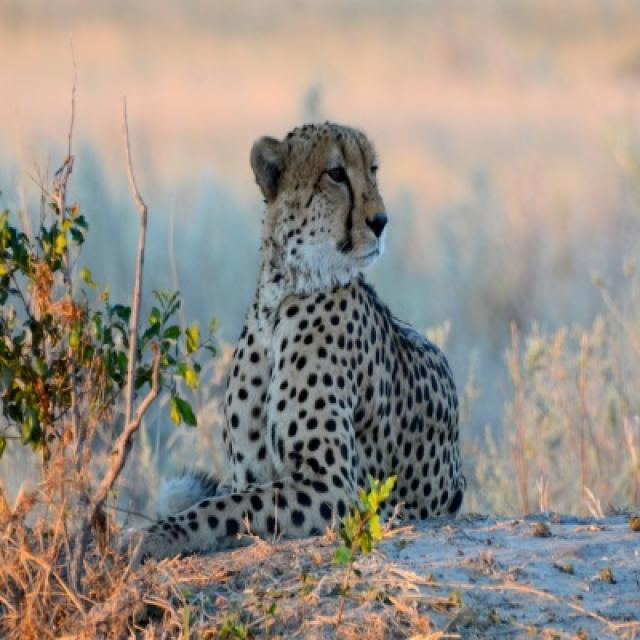Cheetah: (134, 122, 467, 563)
